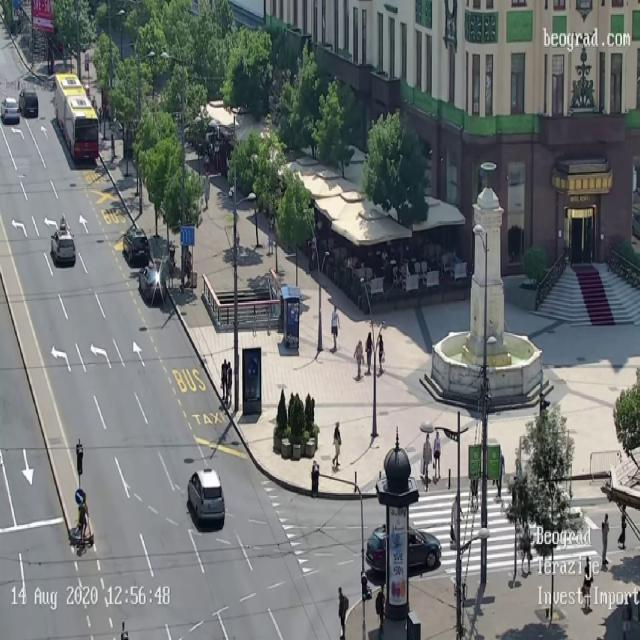bus: (54, 72, 98, 162)
car: (365, 522, 441, 574), (187, 467, 225, 527), (142, 266, 166, 306), (125, 226, 146, 262), (57, 228, 75, 266), (1, 96, 20, 124), (21, 88, 39, 116)
